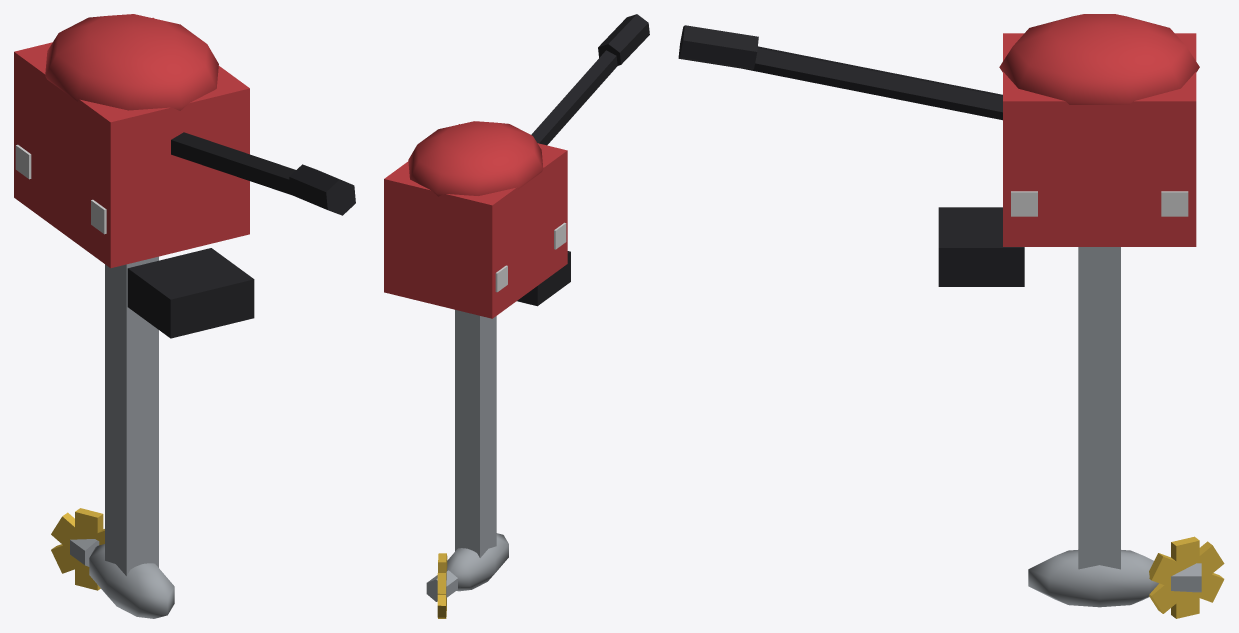
Rendered from outboard.glb.
The picture shows the model from 3 angles, left to right: view 1: azimuth 30°, elevation 25°; view 2: azimuth 150°, elevation 25°; view 3: azimuth 270°, elevation 25°; orthographic projection. The views are drawn at different scales.
Parts seen in each view (by area): view 1: outboard, prop; view 2: outboard, prop; view 3: outboard, prop.
Part boxes in pixels (x1,y1,x2,y2): outboard: [14, 14, 355, 618]; prop: [51, 508, 104, 590]; outboard: [384, 14, 649, 591]; prop: [426, 553, 457, 618]; outboard: [678, 14, 1199, 607]; prop: [1149, 536, 1224, 618].
Bounding box in the file's own units: 0.31 × 1.21 × 1.02.
